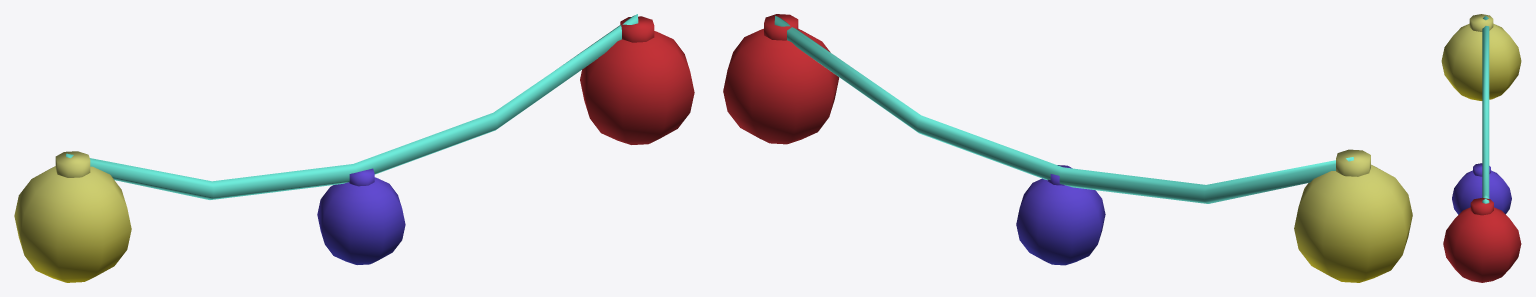
The model's file is Lights_0_1.fbx.
The picture shows the model from 3 angles, left to right: view 1: azimuth 30°, elevation 25°; view 2: azimuth 150°, elevation 25°; view 3: azimuth 270°, elevation 25°; orthographic projection. The views are drawn at different scales.
Parts seen in each view (by area): view 1: Plane.043; view 2: Plane.043; view 3: Plane.043.
Part boxes in pixels (x1,y1,x2,y2): Plane.043: (14,14,694,282); Plane.043: (723,14,1412,282); Plane.043: (1441,14,1521,282).
Bounding box in the file's own units: 185 × 46.71 × 29.08.
